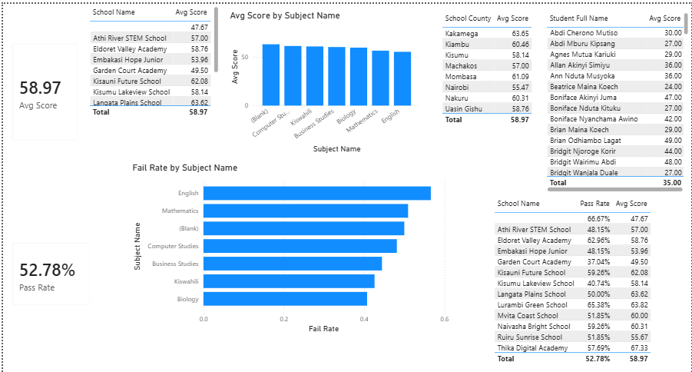

Layout of this report page (visuals, bound fields, positions):
{"tool":"powerbi","page":{"name":"Academic Performance","canvas":[1280,720],"ordinal":2},"visuals":[{"type":"cardVisual","fields":{"Data":["_Measures.Avg Score"]},"box":[0,56.9,155.2,213.8],"z":0},{"type":"tableEx","fields":{"Values":["DimSchool.School Name","_Measures.Avg Score"]},"box":[155.2,0,250,213.8],"z":1000},{"type":"clusteredColumnChart","fields":{"Category":["DimSubject.Subject Name"],"Y":["_Measures.Avg Score"]},"box":[417.2,12.1,363.8,270.7],"z":2000},{"type":"tableEx","fields":{"Values":["DimLocation.School County","_Measures.Avg Score"]},"box":[812.1,12.1,193.1,231],"z":3000},{"type":"tableEx","fields":{"Values":["DimStudent.Student Full Name","_Measures.Avg Score"]},"box":[1005.2,12.1,274.1,343.1],"z":4000},{"type":"cardVisual","fields":{"Data":["_Measures.Pass Rate"]},"box":[0,427.6,179.3,150],"z":5000},{"type":"clusteredBarChart","fields":{"Category":["DimSubject.Subject Name"],"Y":["_Measures.Fail Rate"]},"box":[236.2,294.8,598.3,322.4],"z":6000},{"type":"tableEx","fields":{"Values":["DimSchool.School Name","_Measures.Pass Rate","_Measures.Avg Score"]},"box":[908.6,355.2,332.8,337.9],"z":7000}]}

Visuals, with their boxes on the page's 1280x720 design canvas (x1, y1, x2, y2). These are canvas units, not pixel positions in the 692x372 screenshot, which may show the page scaled, cropped or inside an application window:
cardVisual - _Measures.Avg Score: <region>0, 57, 155, 271</region>
tableEx - DimSchool.School Name x _Measures.Avg Score: <region>155, 0, 405, 214</region>
clusteredColumnChart - DimSubject.Subject Name x _Measures.Avg Score: <region>417, 12, 781, 283</region>
tableEx - DimLocation.School County x _Measures.Avg Score: <region>812, 12, 1005, 243</region>
tableEx - DimStudent.Student Full Name x _Measures.Avg Score: <region>1005, 12, 1279, 355</region>
cardVisual - _Measures.Pass Rate: <region>0, 428, 179, 578</region>
clusteredBarChart - DimSubject.Subject Name x _Measures.Fail Rate: <region>236, 295, 834, 617</region>
tableEx - DimSchool.School Name x _Measures.Pass Rate: <region>909, 355, 1241, 693</region>
